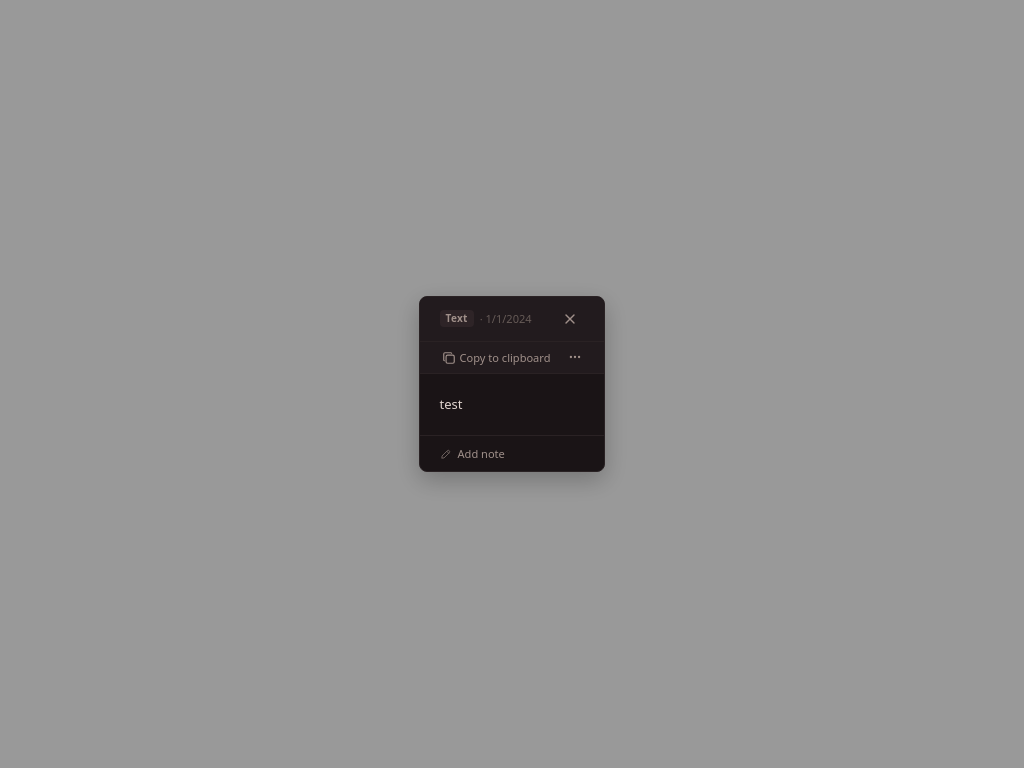
Scenario: PreviewPanel › expands note input when toggle is clicked
Click the button "Add note".
click(512, 453)  # box [420,435,604,471]
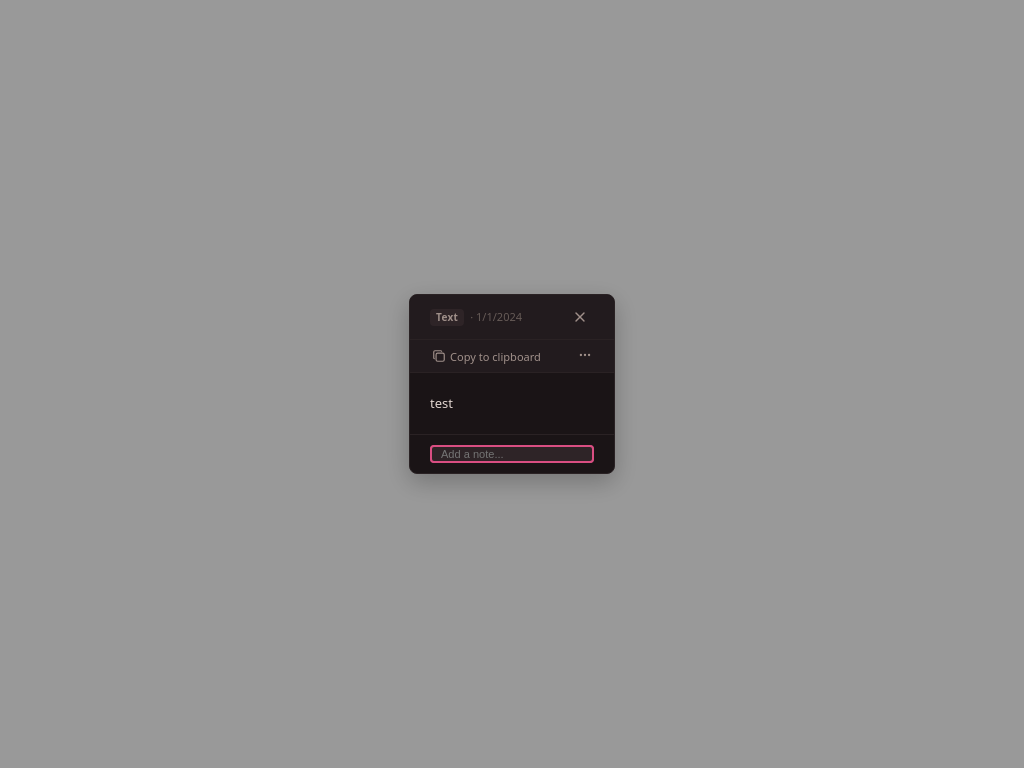
expect the field with placeholder "Add a note..." is shown: met, box [430,445,594,463]
